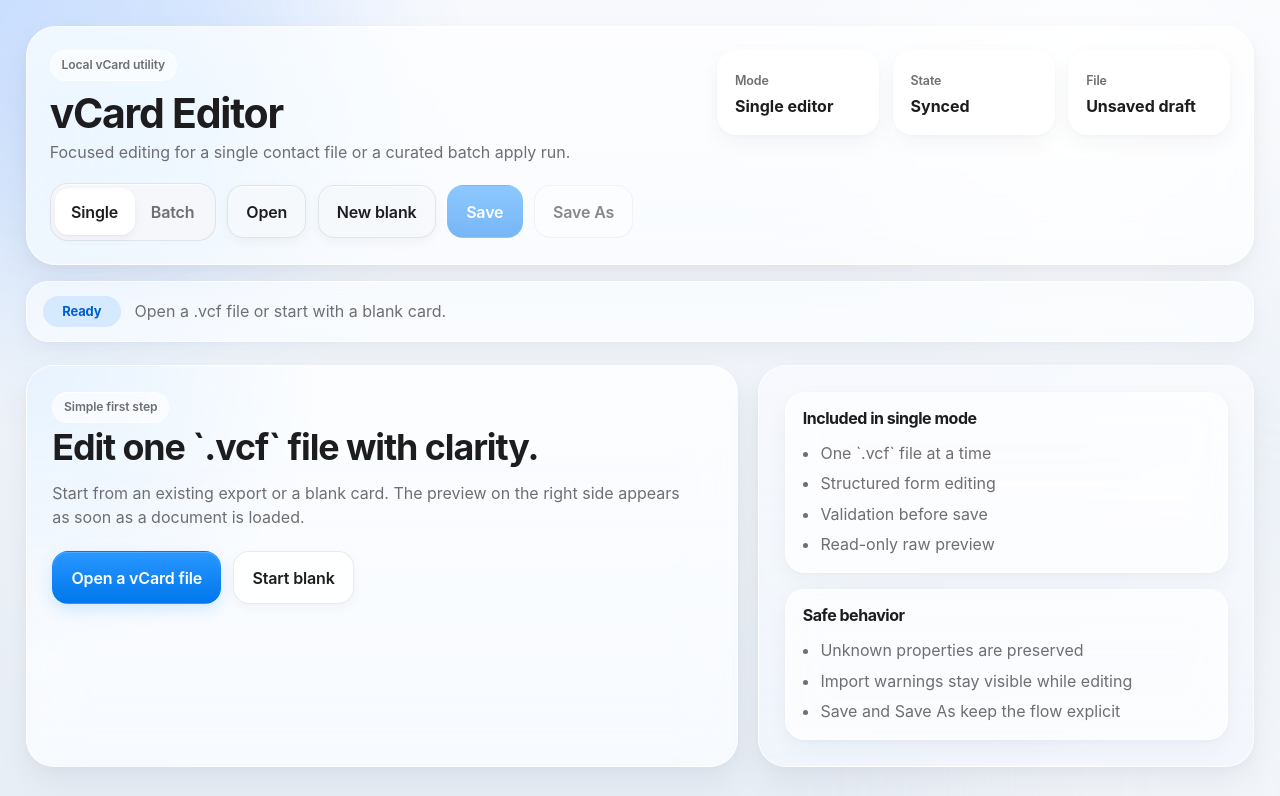
App › allows adding and editing an email entry without crashing
Click the button "Start blank" at (294, 578), box x1=233 y1=551 x2=354 y2=604
(page scrolled)
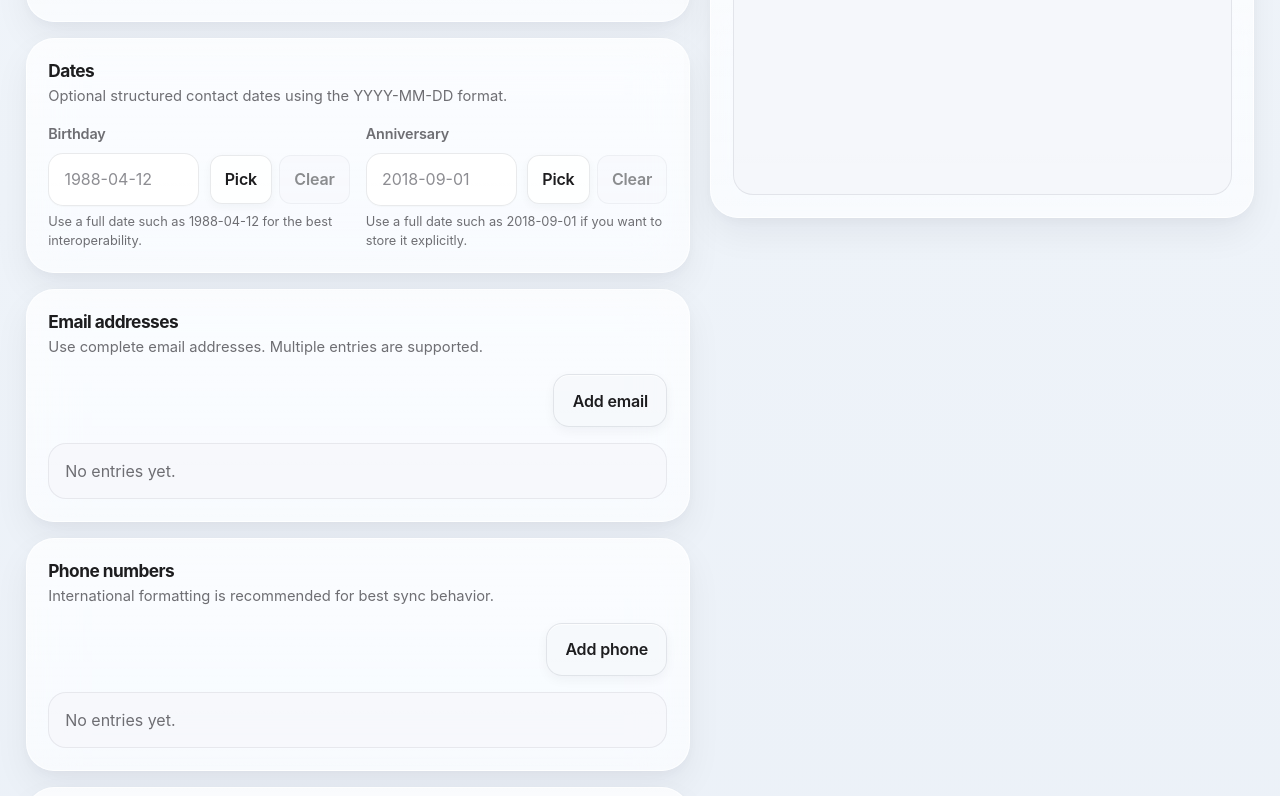
Click the button "Add email" at (610, 401), box x1=554 y1=374 x2=667 y2=427
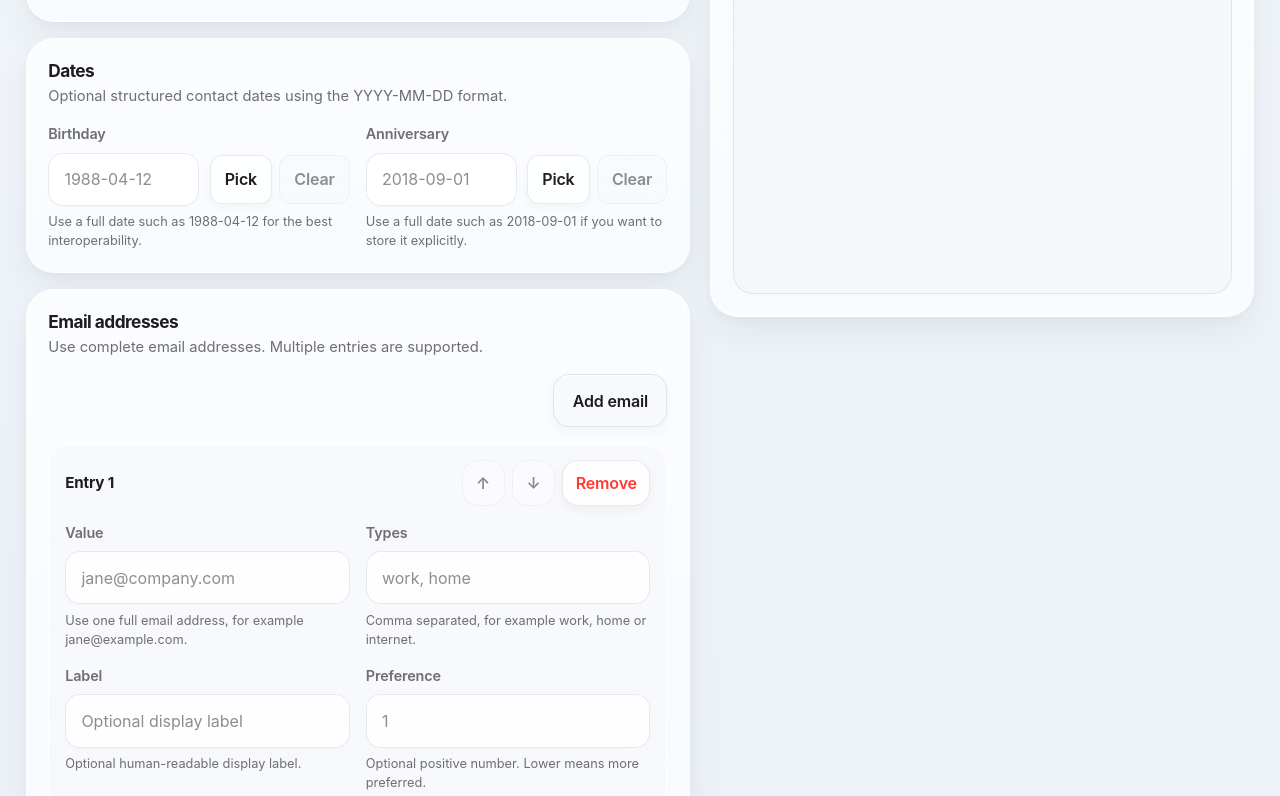
Type "jane@example.com" into the field labelled "Value" at (208, 578), box x1=65 y1=551 x2=350 y2=604
(page scrolled)
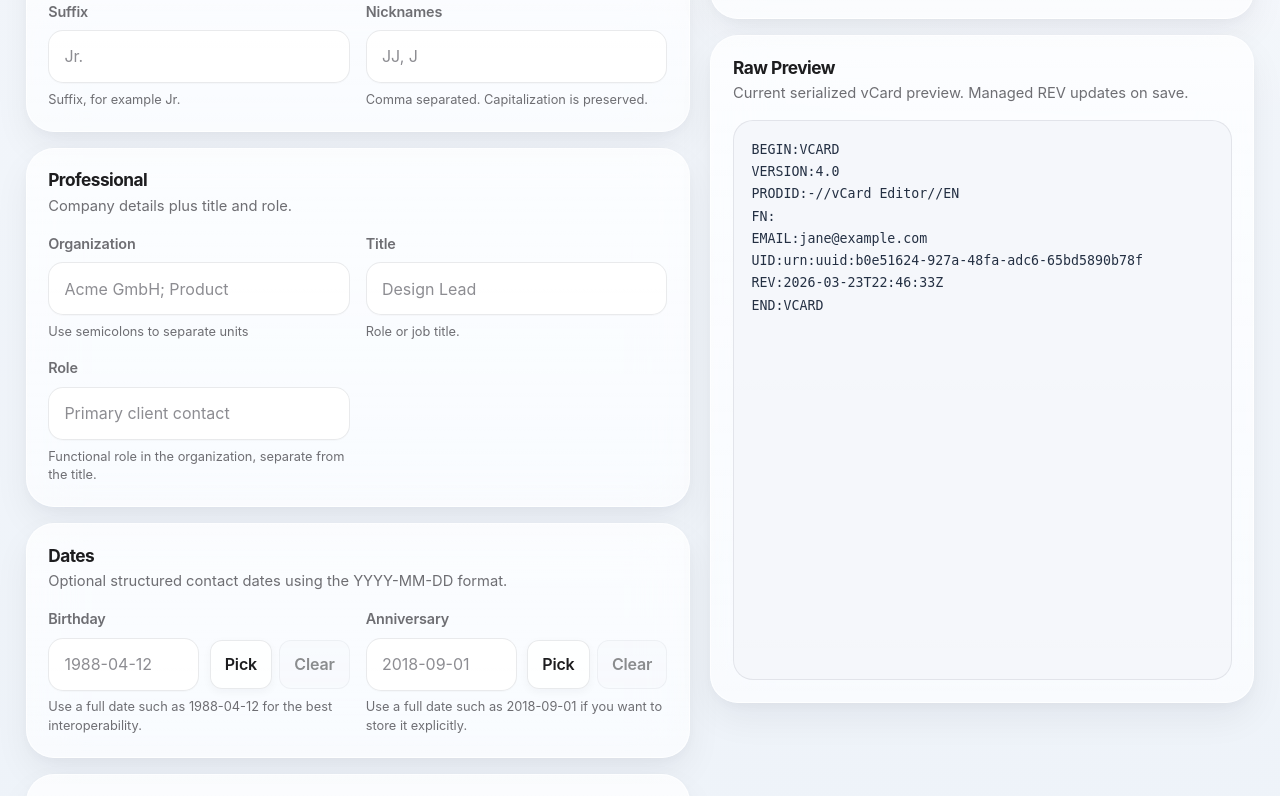
Expected: the text "EMAIL:jane@example.com" is shown, x1=752 y1=142 x2=1143 y2=313
